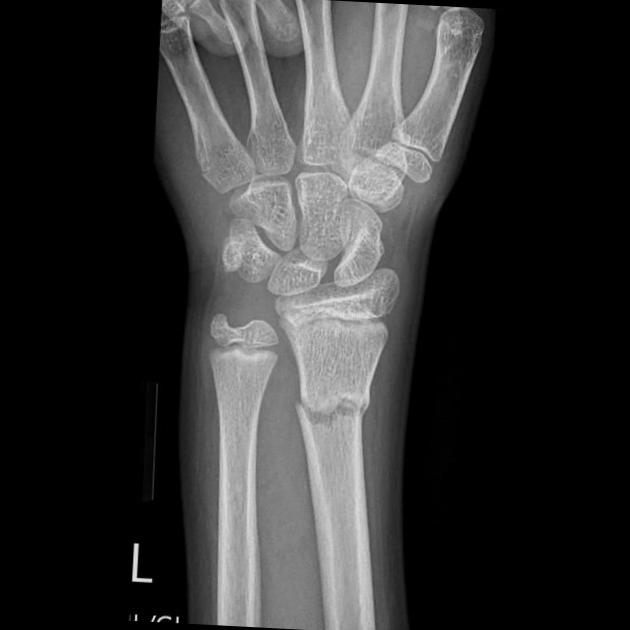fracture: (293, 385, 372, 437)
